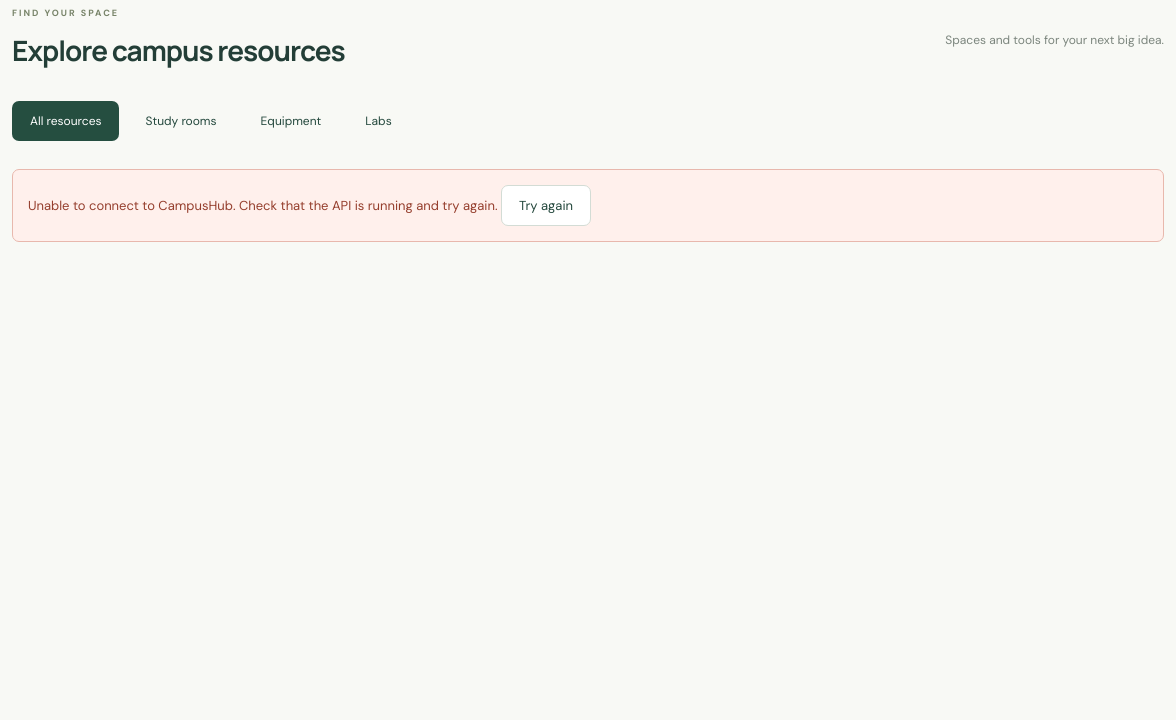
Scenario: recovers resource loading after a network error
This screenshot has width=1176, height=720.
Expected: the message shows "Unable to connect", [28,197,498,214]
Click the button "Try again".
click(546, 206)  # box [501,185,591,226]
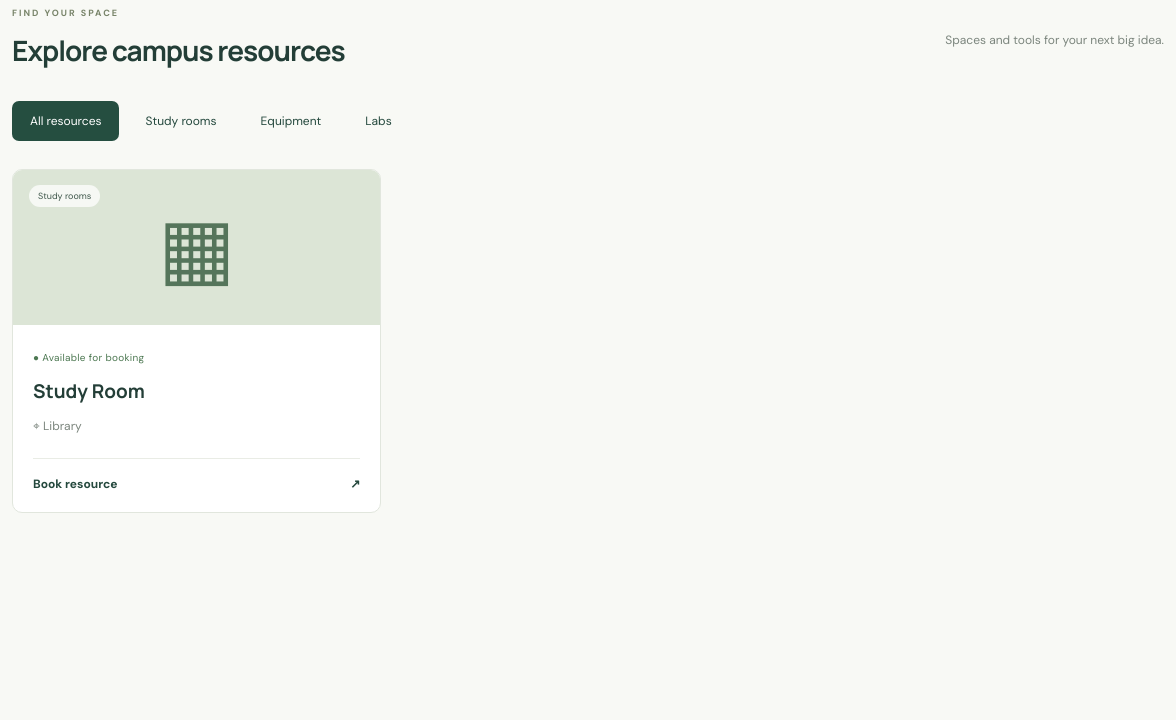
Expected: the heading "Study Room" is shown, [33,378,145,404]
Expected: the message is gone
